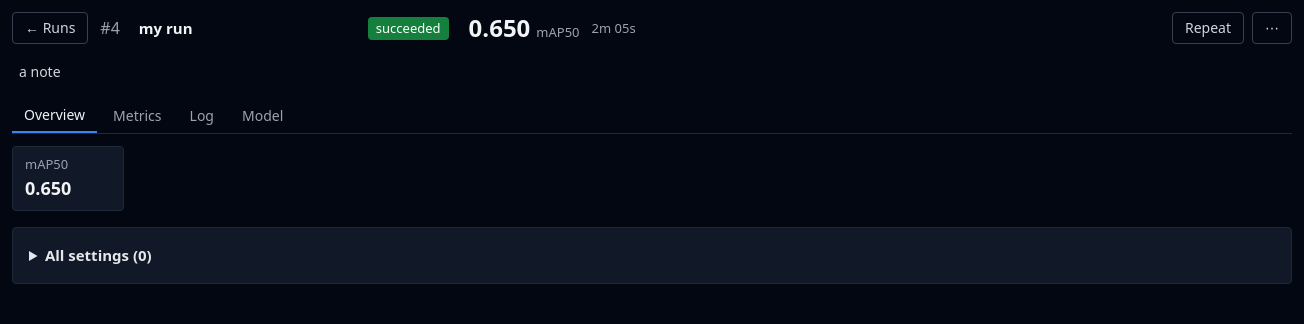
Test case: RunDetail › keeps the typed value and alerts when the save fails
The width and height of the screenshot is (1304, 324).
Replace the text in the field named "Name" with "bad" at (244, 28), box [132,12,356,44]
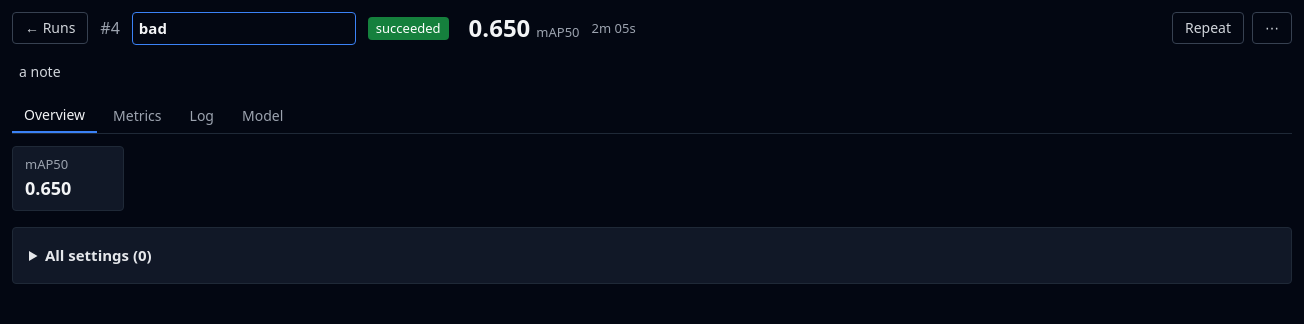
Press Tab
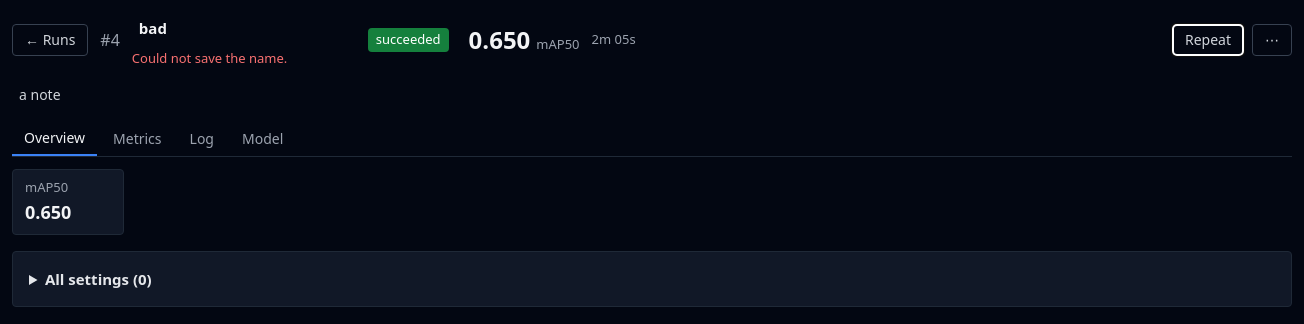
Expected: the message "Could not save the name." is shown, [132,48,287,66]
